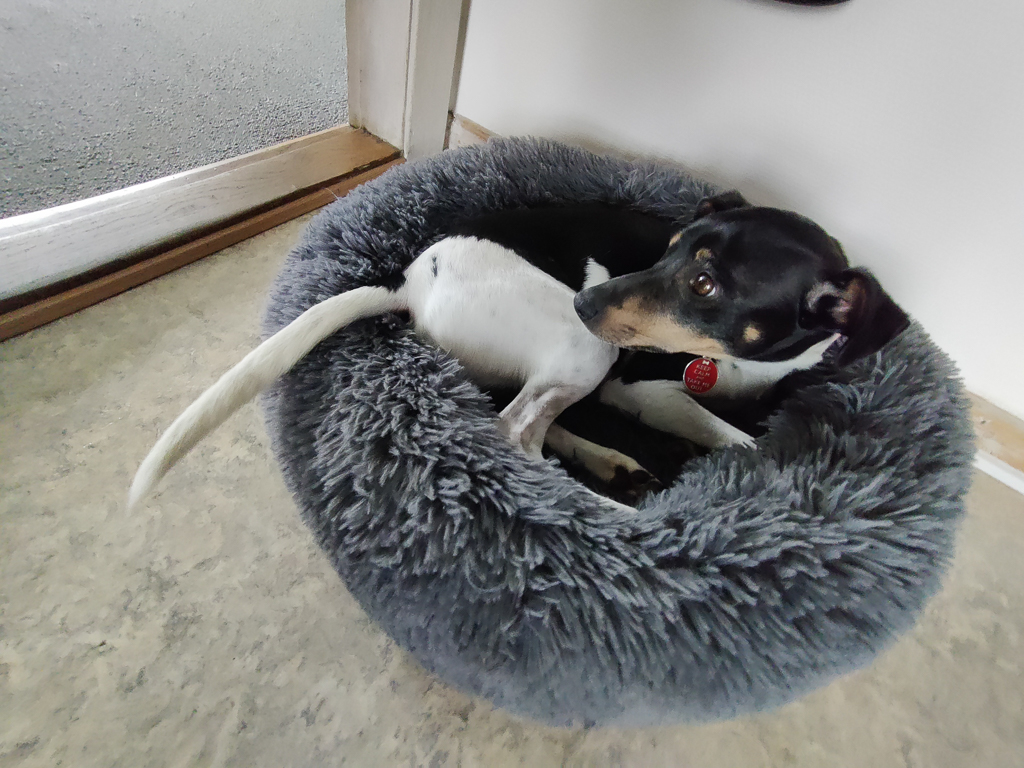Dog: (105, 179, 918, 544)
